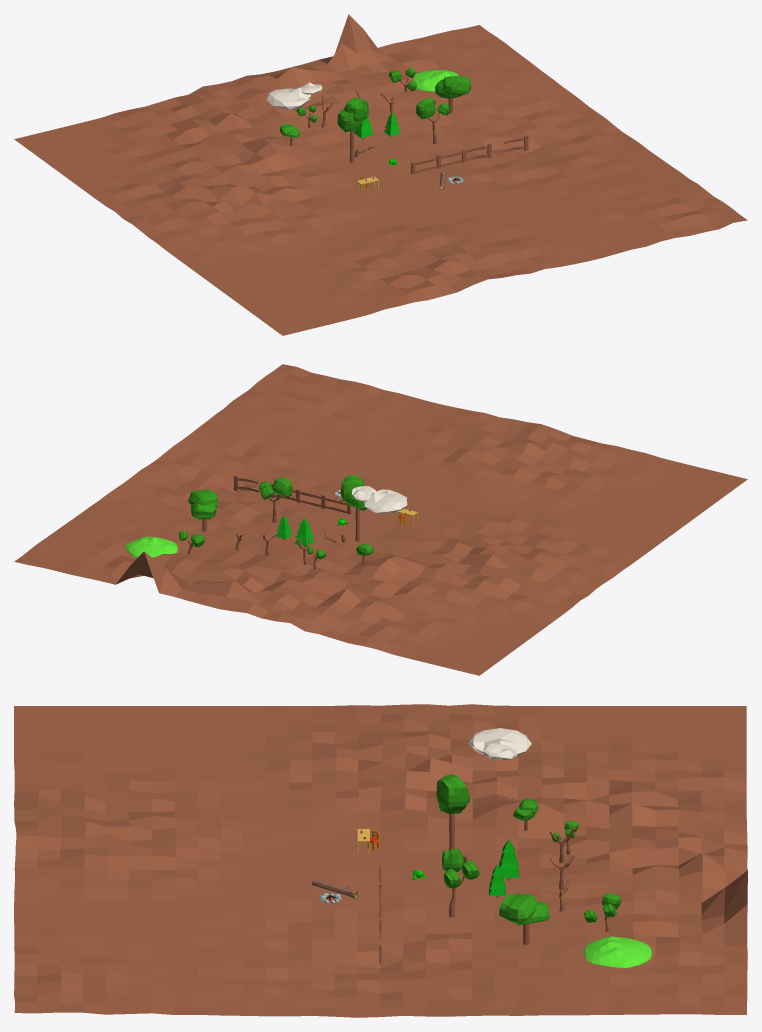
Rendered from Desert2.fbx.
3 views of the same model, one above another, from view 1: azimuth 30°, elevation 25°; view 2: azimuth 150°, elevation 25°; view 3: azimuth 270°, elevation 25° (orthographic). The views are drawn at different scales.
Visible parts, largest first — view 1: Plane, cloud, tree1, tree4, fence, tree1.001, Icosphere; view 2: Plane, cloud, tree4, Icosphere, tree1, tree1.001, fence; view 3: Plane, Icosphere, cloud, tree4, tree1, tree1.001, tree1.007, tree5.
Boxes of the visible parts, x1,y1,x2,y2 form: Plane: (14, 14, 747, 335); cloud: (266, 82, 322, 109); tree1: (337, 97, 368, 163); tree4: (435, 76, 471, 113); fence: (411, 143, 491, 174); tree1.001: (416, 97, 450, 144); Icosphere: (413, 70, 458, 91); Plane: (14, 364, 747, 675); cloud: (351, 486, 407, 513); tree4: (188, 489, 218, 531); Icosphere: (126, 536, 178, 557); tree1: (341, 475, 367, 541); tree1.001: (258, 477, 292, 522); fence: (270, 483, 350, 514); Plane: (14, 704, 747, 1017); Icosphere: (584, 936, 651, 968); cloud: (468, 728, 531, 760); tree4: (499, 894, 550, 944); tree1: (436, 774, 470, 849); tree1.001: (442, 848, 479, 917); tree1.007: (584, 893, 621, 931); tree5: (499, 839, 518, 880).
Size of the model in its own units: 2443 by 400 by 2446.
